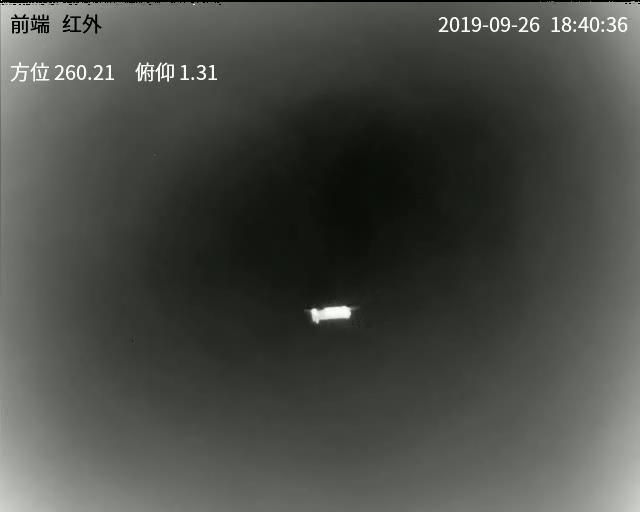uav: (311, 302, 371, 323)
